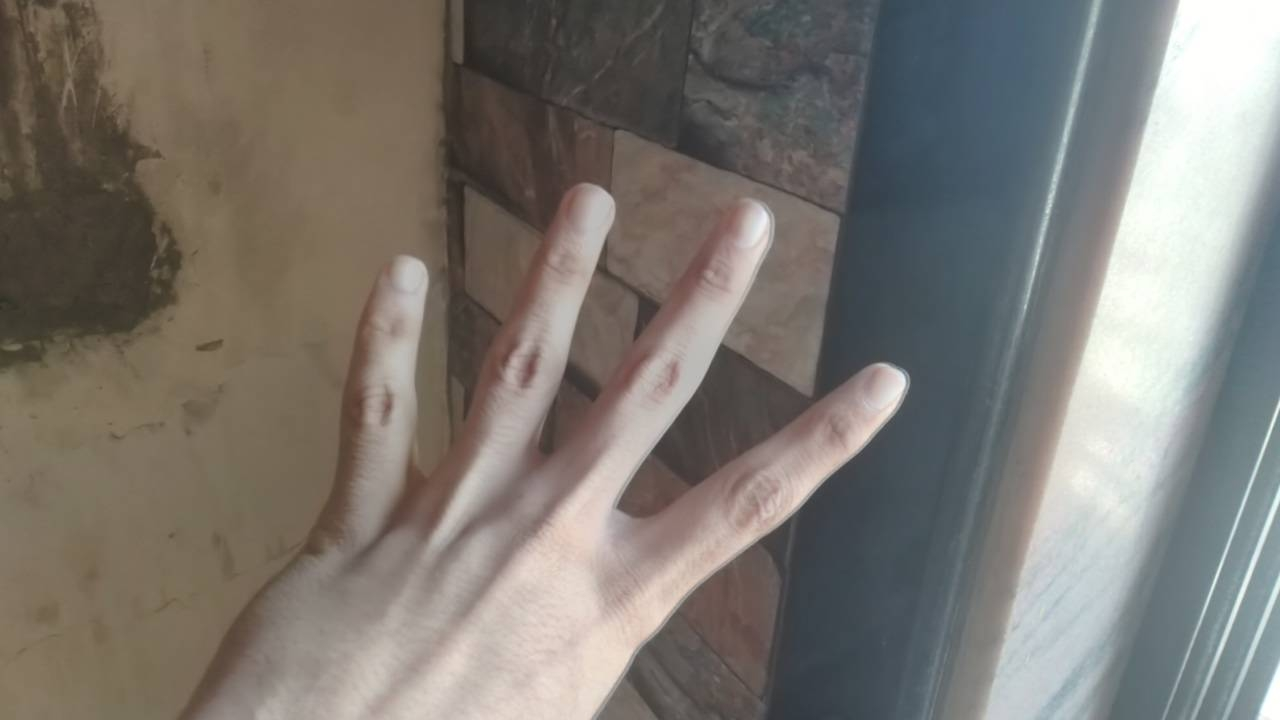fingertip: (714, 190, 784, 254), (848, 354, 920, 416), (358, 248, 432, 308), (548, 178, 618, 240)
